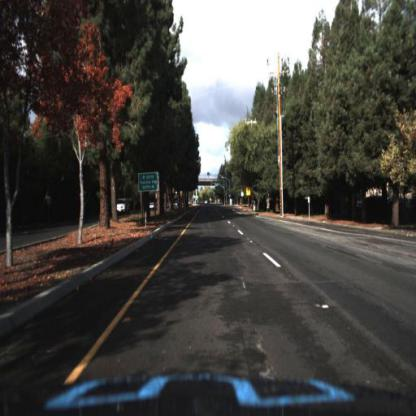car: (113, 195, 131, 218), (116, 195, 132, 218)
